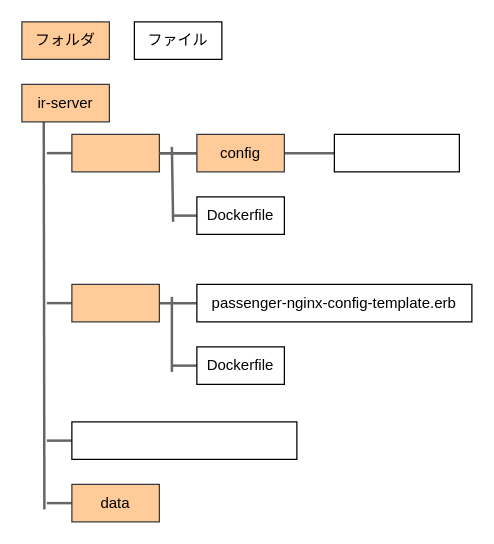
Image size: 494x544. Some labels were removed from this diagram. The centre of each missing label's shape, as x and y in pixels:
default.conf: (x=396, y=152)
docker-compose.yml: (x=184, y=440)
nginx: (x=115, y=152)
redmine: (x=115, y=302)
